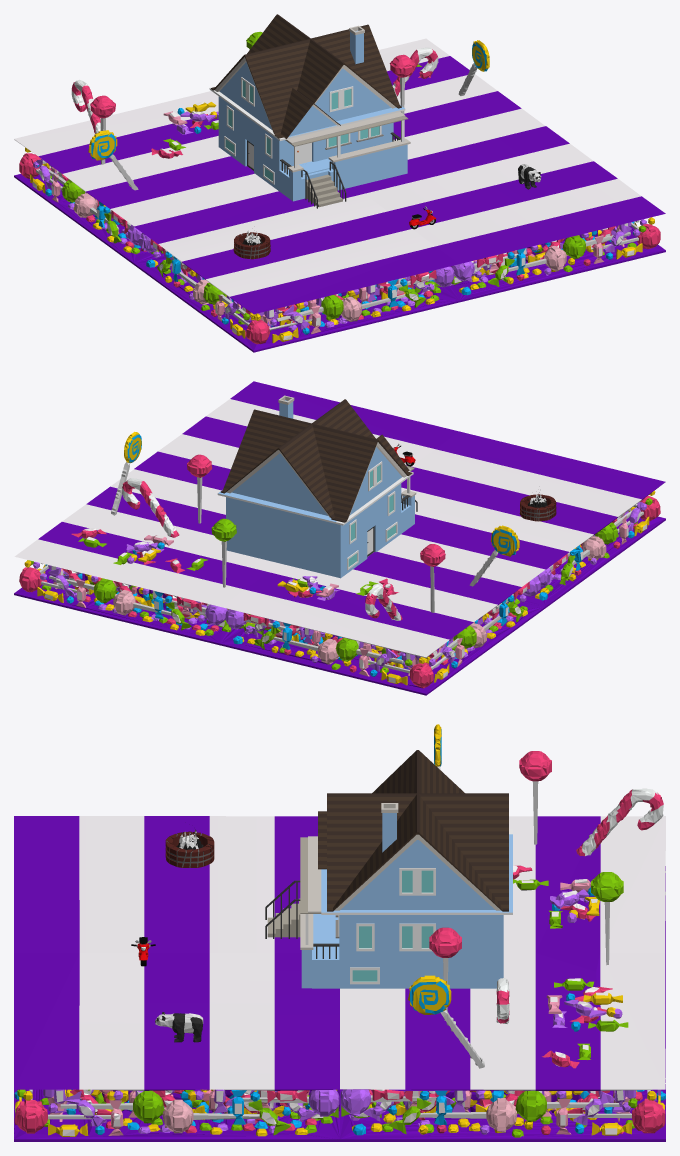
3 renders of one model, top to bottom at view 1: azimuth 30°, elevation 25°; view 2: azimuth 150°, elevation 25°; view 3: azimuth 270°, elevation 25°, orthographic. The views are drawn at different scales.
Parts seen in each view (by area): view 1: TERRAIN_CANDY, Cube.1594, OBJRANDOM_CAMPFIRE; view 2: TERRAIN_CANDY, Cube.1594, OBJRANDOM_CAMPFIRE; view 3: TERRAIN_CANDY, Cube.1594, OBJRANDOM_CAMPFIRE, ANIMAL_PANDA.
Boxes of the visible parts, box(x1,y1,x2,y2) form: TERRAIN_CANDY: box(14, 31, 665, 352); Cube.1594: box(209, 14, 410, 208); OBJRANDOM_CAMPFIRE: box(233, 230, 270, 259); TERRAIN_CANDY: box(14, 381, 665, 695); Cube.1594: box(217, 395, 417, 578); OBJRANDOM_CAMPFIRE: box(519, 492, 556, 521); TERRAIN_CANDY: box(14, 724, 665, 1141); Cube.1594: box(265, 750, 512, 988); OBJRANDOM_CAMPFIRE: box(165, 829, 214, 867); ANIMAL_PANDA: box(155, 1012, 203, 1042).
Bounding box in the file's own units: 4059 × 1607 × 4000.
Materials: 27 (3 with a texture image).
